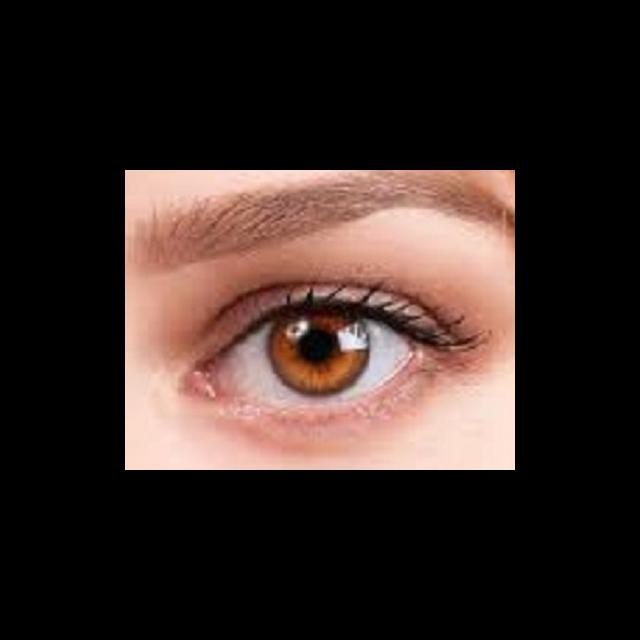eye: (221, 308, 410, 398)
iris: (268, 310, 369, 396)
